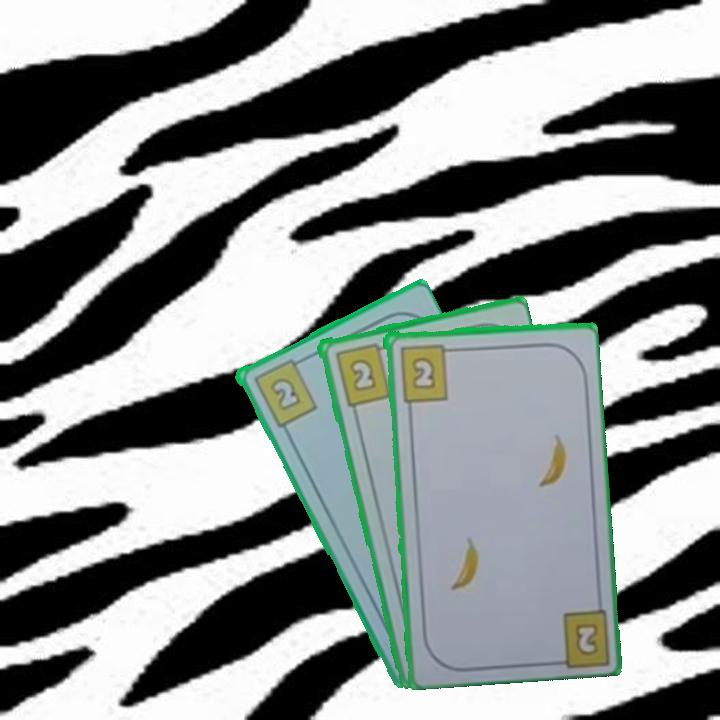2b: (249, 354, 320, 430), (331, 339, 393, 409), (396, 340, 457, 404), (571, 619, 602, 659)
